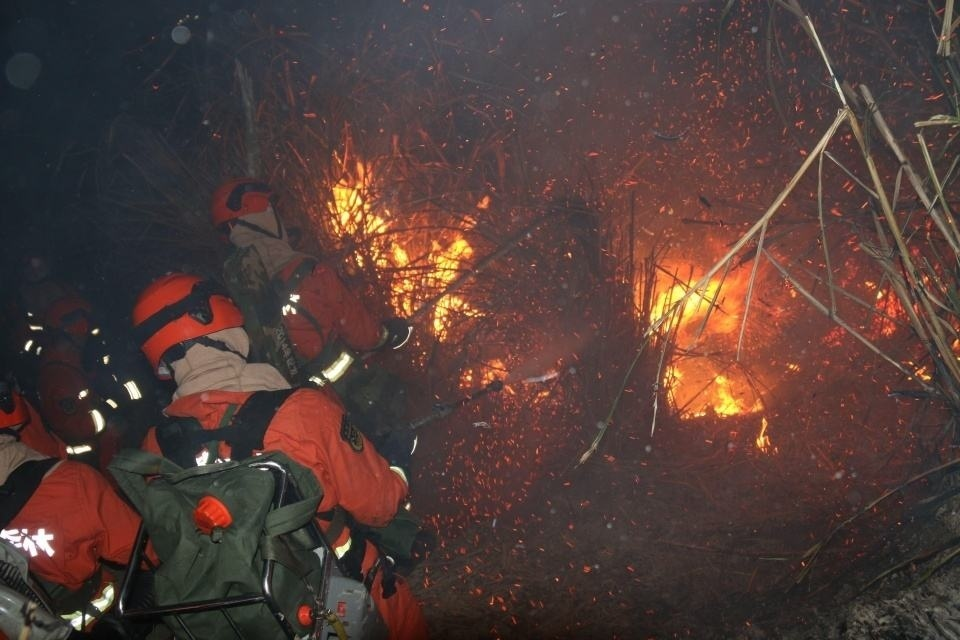fire: (324, 154, 487, 341), (642, 250, 776, 438)
